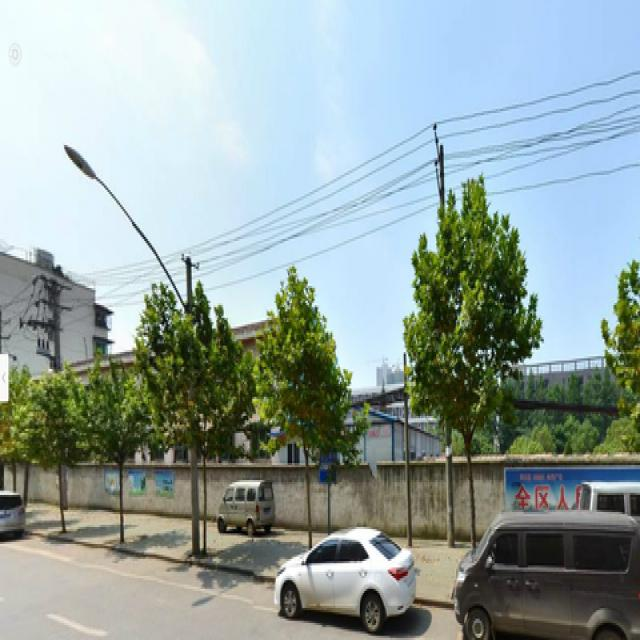meta: (415, 209, 505, 546), (267, 286, 349, 550), (158, 309, 234, 572), (88, 382, 145, 552), (28, 380, 81, 538)
